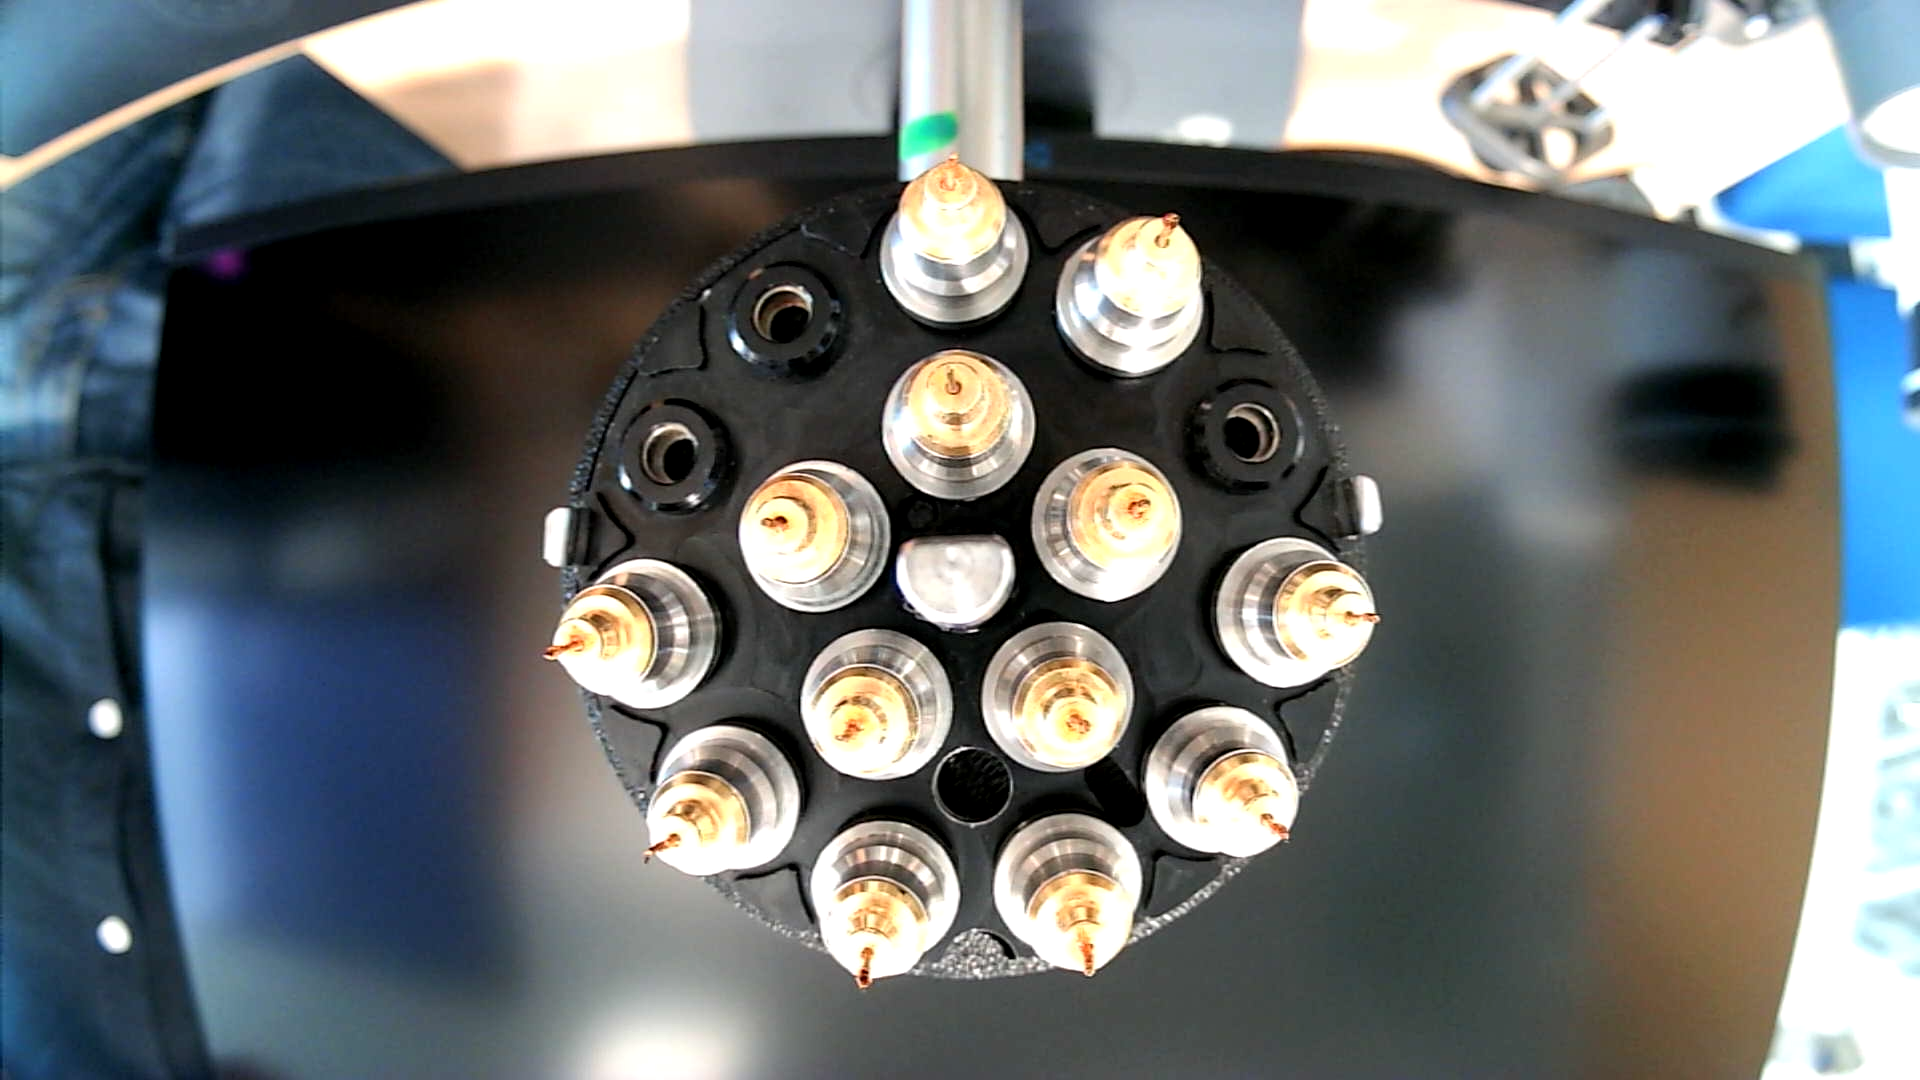empty: (605, 392, 742, 522), (1175, 378, 1312, 497), (720, 258, 855, 378)
hole: (930, 744, 1015, 827)
pin: (808, 815, 965, 997), (542, 555, 727, 709), (637, 716, 803, 878), (1209, 535, 1381, 692), (878, 152, 1031, 327), (992, 808, 1143, 982), (1139, 703, 1302, 862), (1056, 211, 1207, 382), (880, 345, 1040, 502), (794, 625, 953, 782), (978, 618, 1135, 775), (1030, 446, 1184, 605), (738, 451, 893, 611)
rod: (890, 534, 1022, 637)
